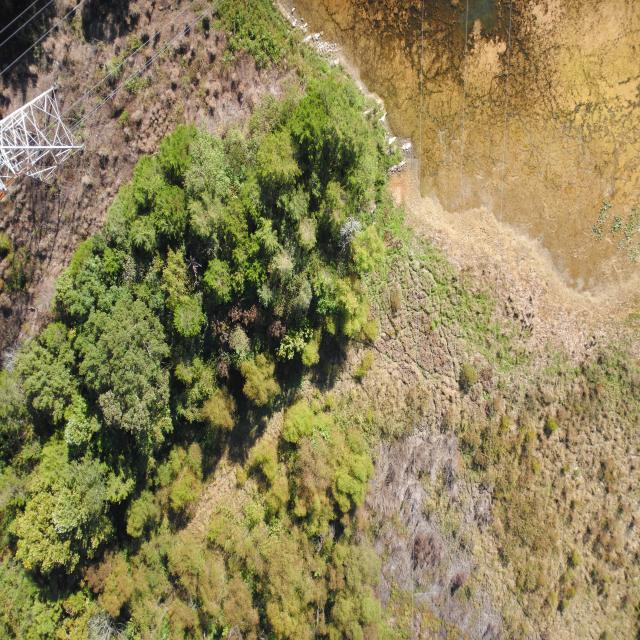Area of Interest: (0, 90, 390, 636)
